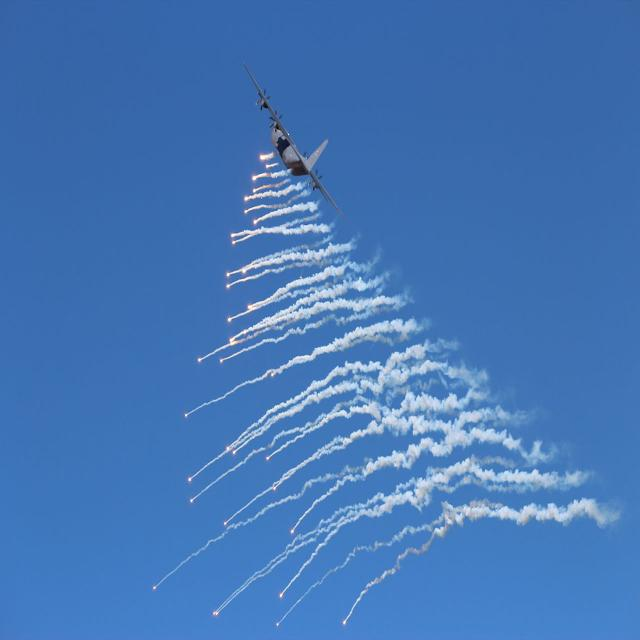MIL_Plane: (258, 60, 330, 222)
